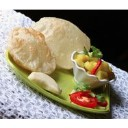poori: (34, 13, 91, 66), (9, 27, 59, 73)
